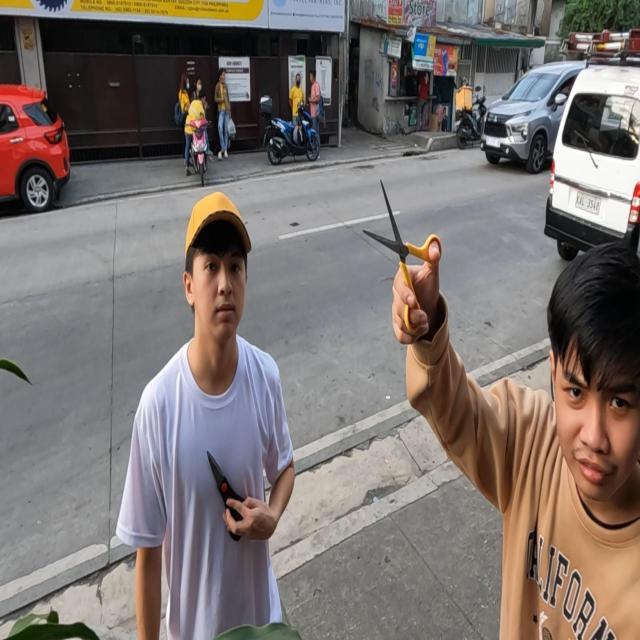scissor: (360, 174, 442, 336), (205, 448, 250, 545)
